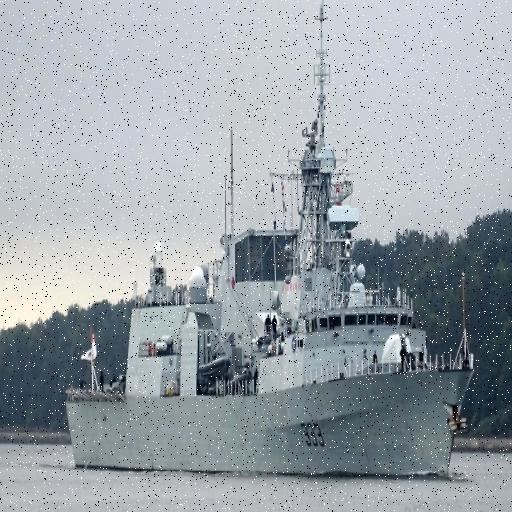Fragata: (62, 1, 479, 476)
